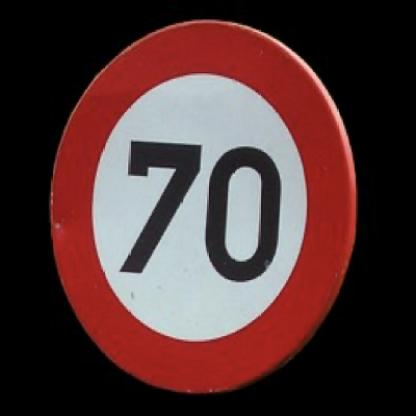Speed Limit 70: (52, 24, 354, 391)
